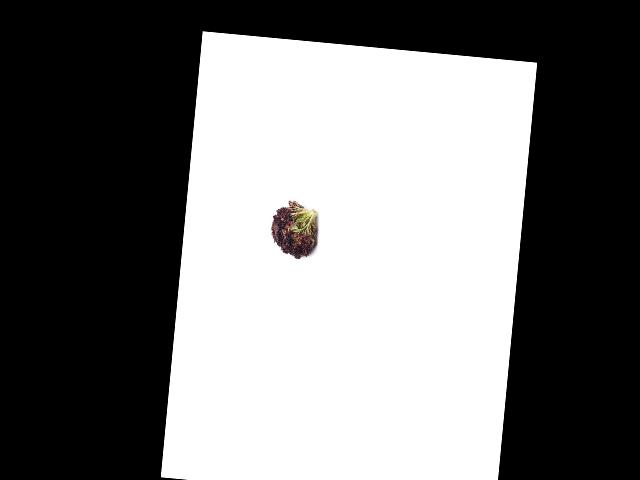lettuce: (266, 201, 323, 263)
